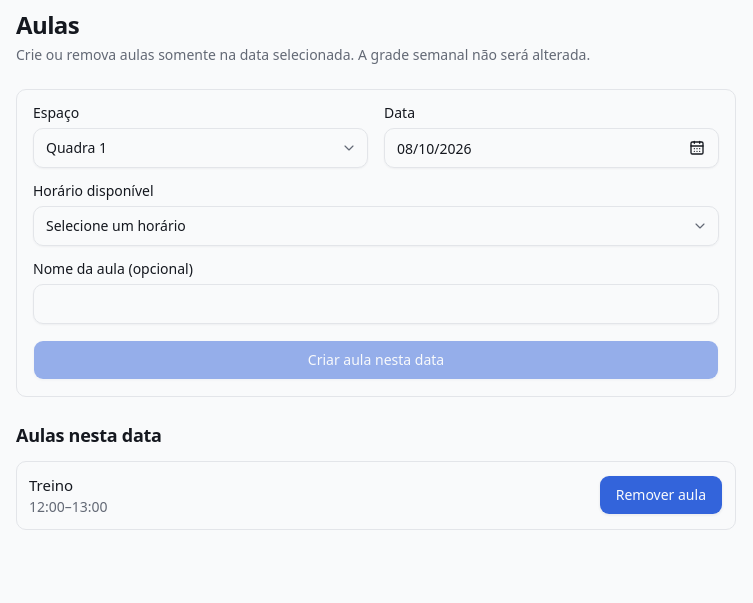
it: TeacherLessonsPage › explains an out-of-range date in pt-BR and blocks lesson creation
Step 1. Replace the text in the field labelled "Data" with "07/10/2026" → (552, 148), box [384,128,719,168]
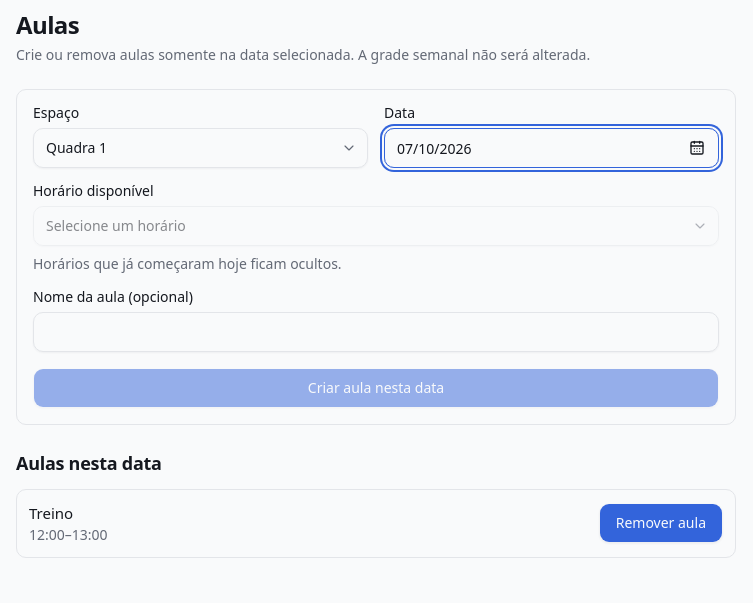
Step 2. Press Tab
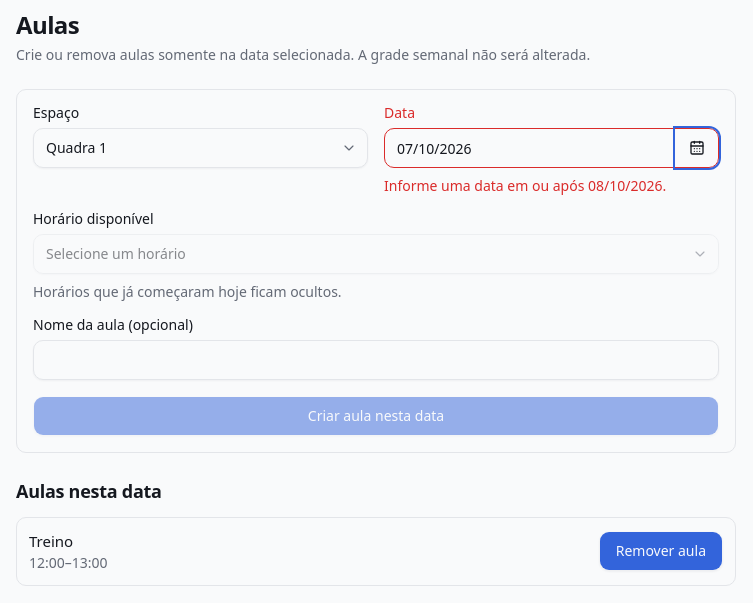
Expected: the button "Criar aula nesta data" is disabled, [33,396,719,436]
Expected: the text "Informe uma data em ou após 08/10/2026." is shown, [384,176,666,195]
